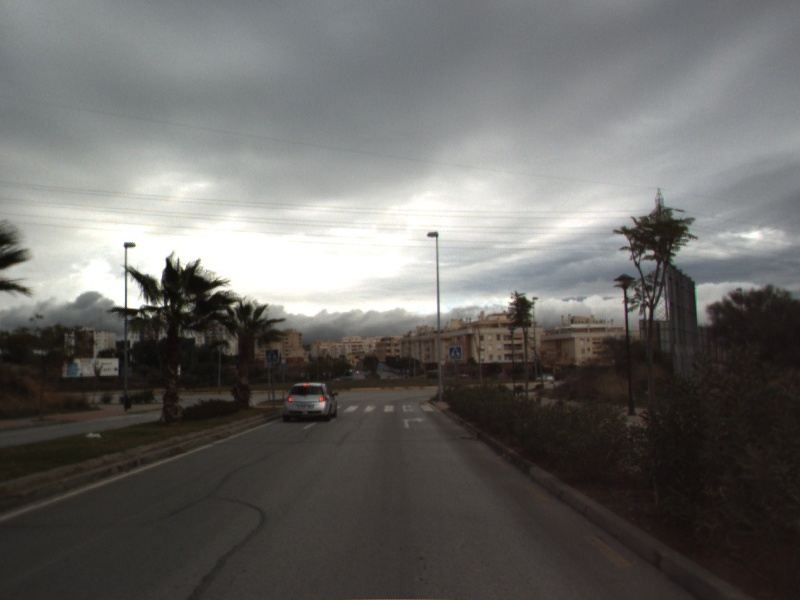RIGHT: (401, 415, 426, 430)
